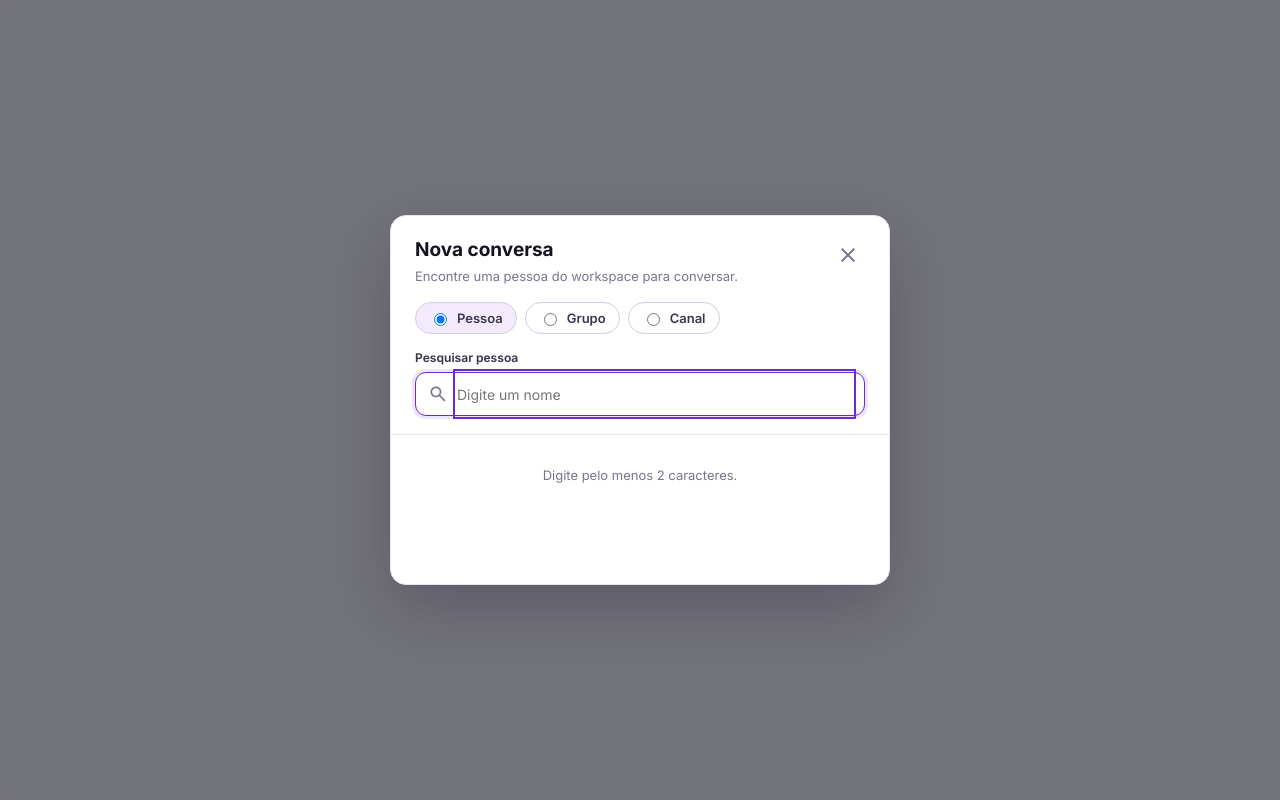
Scenario: NewConversationDialog › shows a generic search error and retries the same query
Type "jo" into the search field at coordinates (654, 394), box [457,373,852,415]
Wait 150 ms
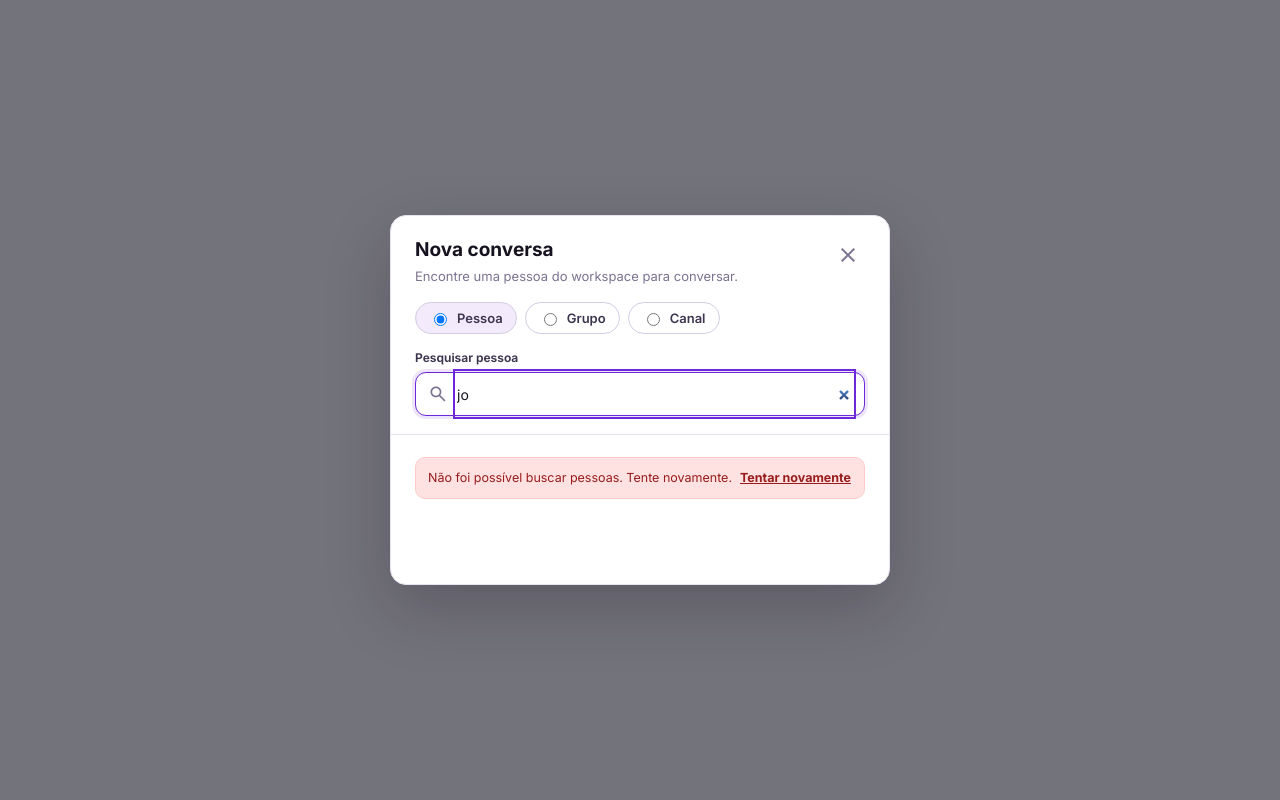
Expected: the message shows "Não foi possível buscar pessoas", [428,470,732,485]
Click the button "Tentar novamente" at coordinates (795, 478), box [740,469,851,487]
Wait 150 ms
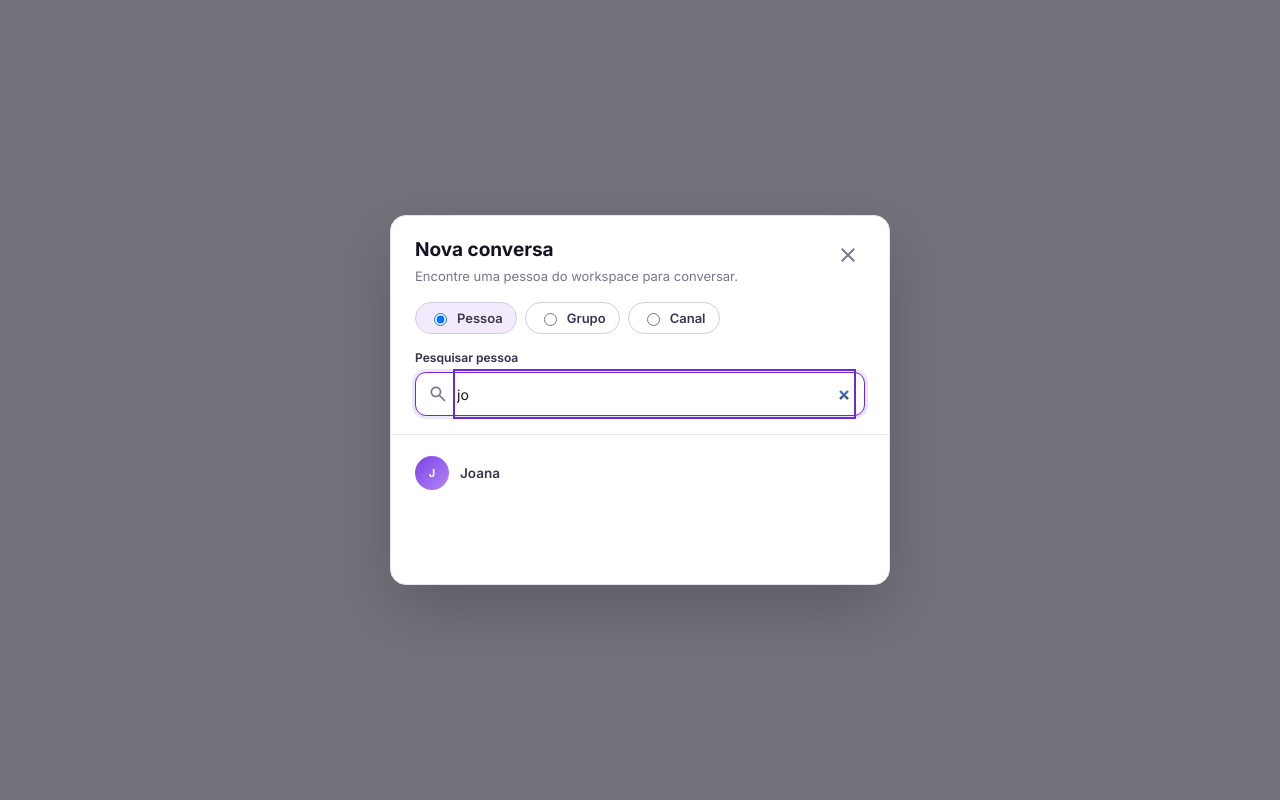
Expected: the button "J Joana" is shown, [405,447,875,499]
